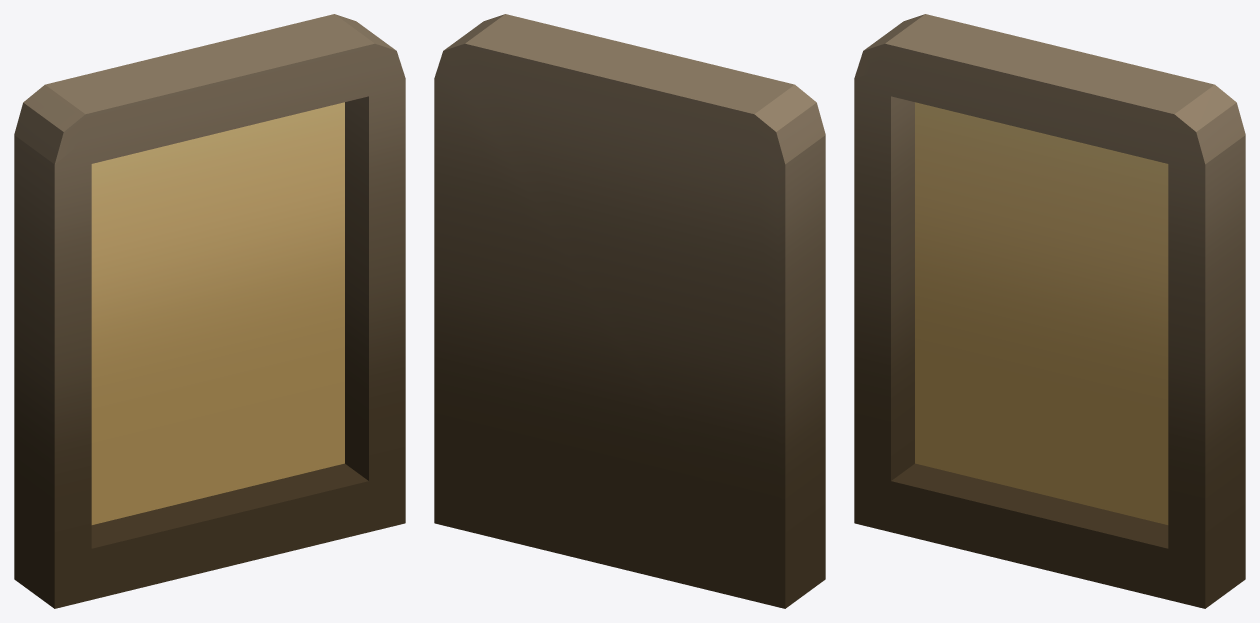
The model's file is House_Barn_MiddleWall.fbx.
3 renders of one model, left to right at view 1: azimuth 30°, elevation 25°; view 2: azimuth 150°, elevation 25°; view 3: azimuth 330°, elevation 25°, orthographic.
Visible parts, largest first — view 1: House_Barn_MiddleWall; view 2: House_Barn_MiddleWall; view 3: House_Barn_MiddleWall.
Part boxes in pixels (x1=…): House_Barn_MiddleWall: x1=14, y1=14, x2=405, y2=608; House_Barn_MiddleWall: x1=434, y1=14, x2=825, y2=608; House_Barn_MiddleWall: x1=854, y1=14, x2=1245, y2=608.
Size of the model in its own units: 1 by 1.33 by 0.2.
Materials: 1 (1 with a texture image).
